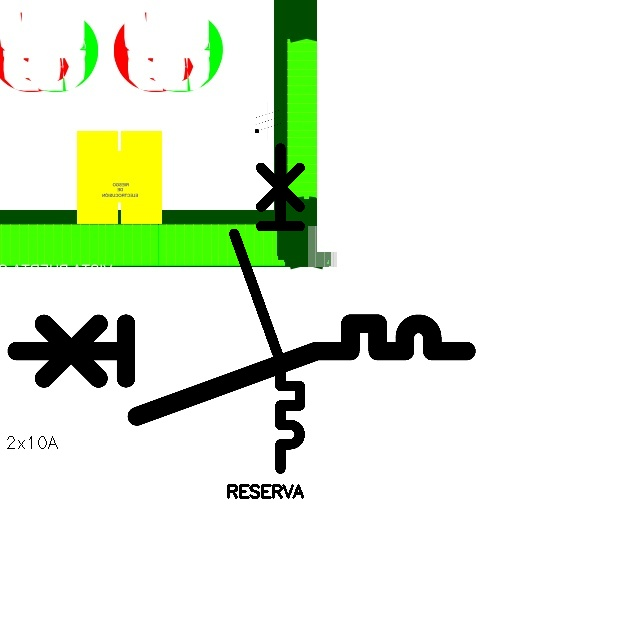interruptor_termomagnetico: (5, 312, 478, 428), (226, 140, 308, 477)
